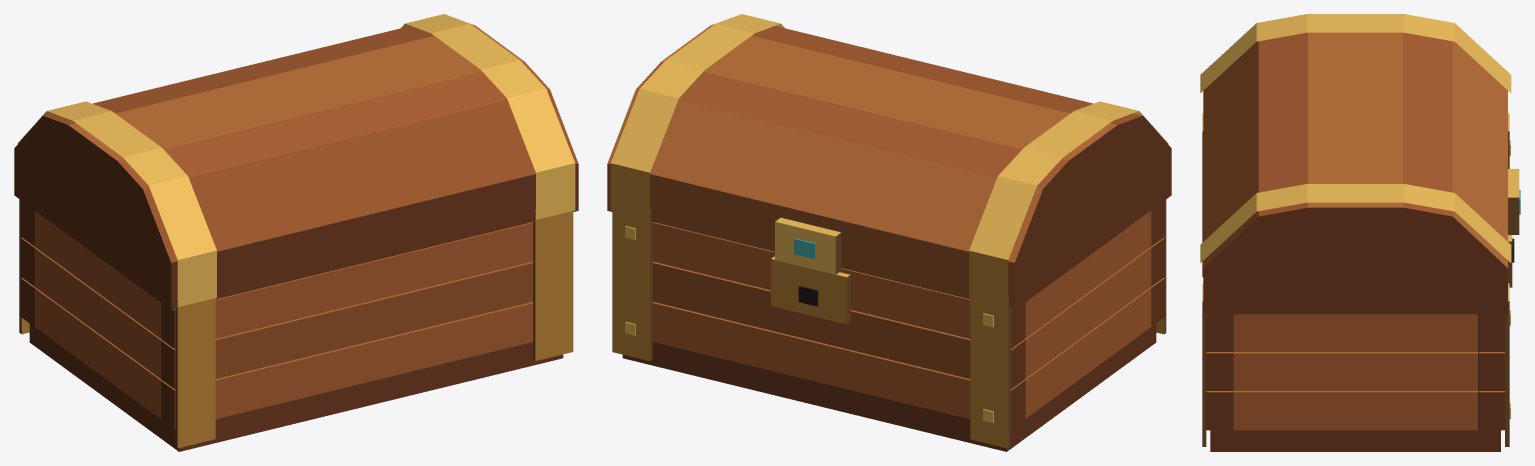
File: TreasureChest.obj
3 views of the same model, side by side, from view 1: azimuth 30°, elevation 25°; view 2: azimuth 150°, elevation 25°; view 3: azimuth 270°, elevation 25° (orthographic). The views are drawn at different scales.
Parts seen in each view (by area): view 1: TreasureChest; view 2: TreasureChest; view 3: TreasureChest.
Part boxes in pixels (x1,y1,x2,y2): TreasureChest: [14, 14, 578, 451]; TreasureChest: [607, 14, 1171, 451]; TreasureChest: [1200, 14, 1520, 451].
Bounding box in the file's own units: 0.912 × 0.556 × 0.6391.
Materials: 1 (1 with a texture image).
